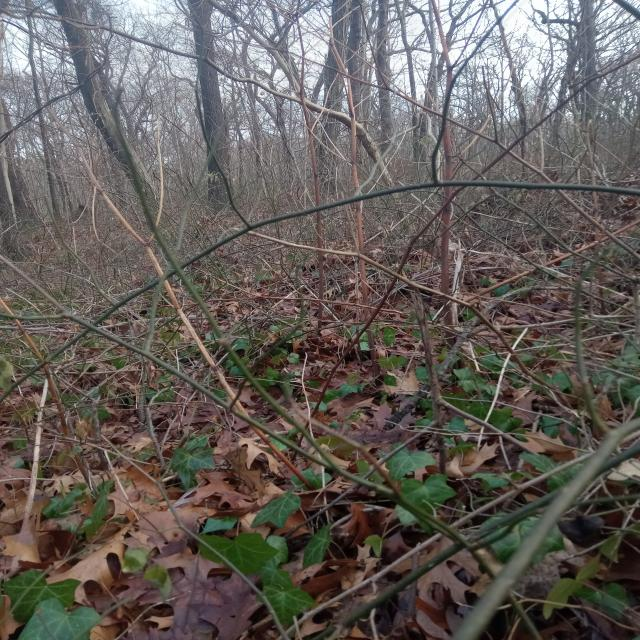bushes: (1, 0, 639, 639)
knotweed-stems: (434, 55, 462, 332), (347, 94, 374, 338), (303, 120, 326, 332)
tree trunks: (187, 1, 230, 212)
